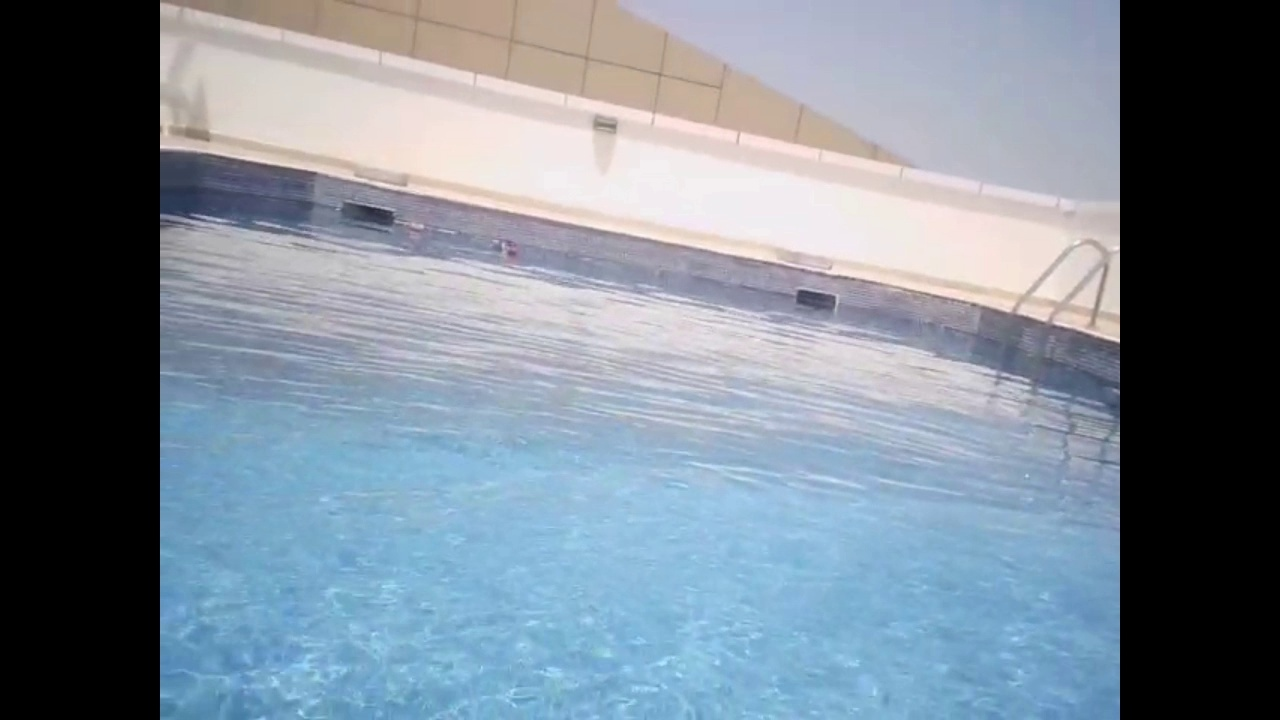debris: (498, 242, 521, 261), (405, 219, 428, 235), (486, 233, 506, 245)
